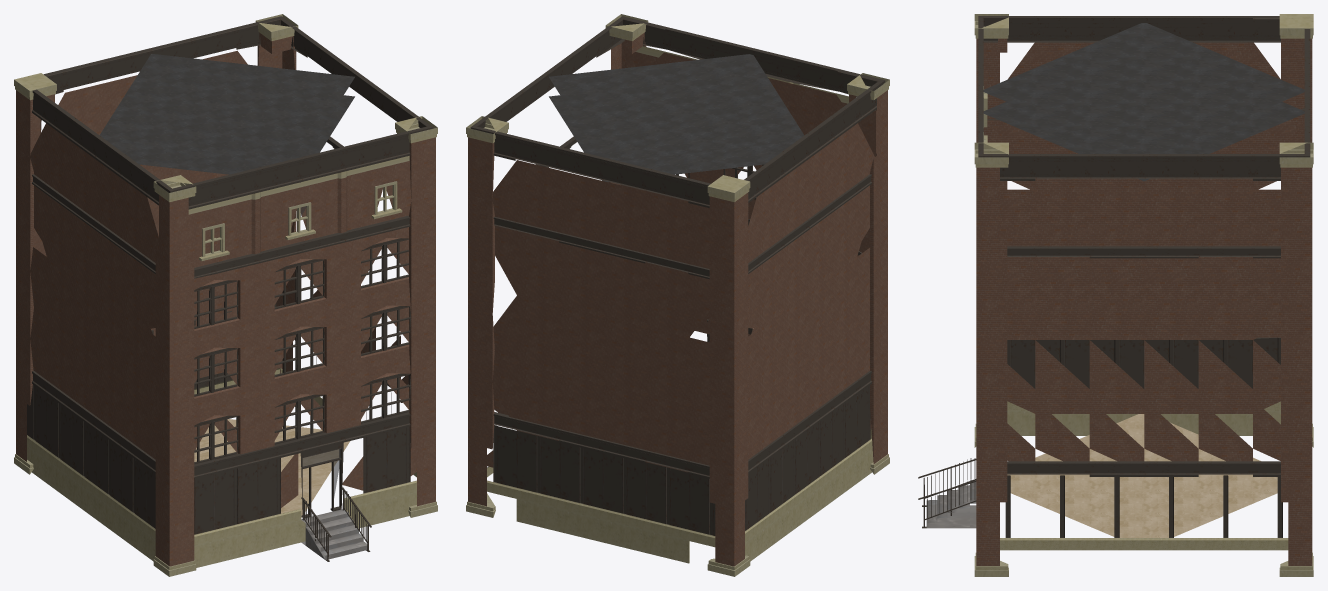
Rendered from small-tiny.glb.
3 views of the same model, side by side, from view 1: azimuth 30°, elevation 25°; view 2: azimuth 150°, elevation 25°; view 3: azimuth 270°, elevation 25° (orthographic). The views are drawn at different scales.
Visible parts, largest first — view 1: Building_Small_1; view 2: Building_Small_1; view 3: Building_Small_1.
Boxes of the visible parts, x1=… form: Building_Small_1: x1=14, y1=14, x2=437, y2=576; Building_Small_1: x1=466, y1=14, x2=889, y2=576; Building_Small_1: x1=918, y1=14, x2=1313, y2=576.
Bounding box in the file's own units: 12.46 × 17.03 × 14.54.
Materials: 9 (8 with a texture image).
